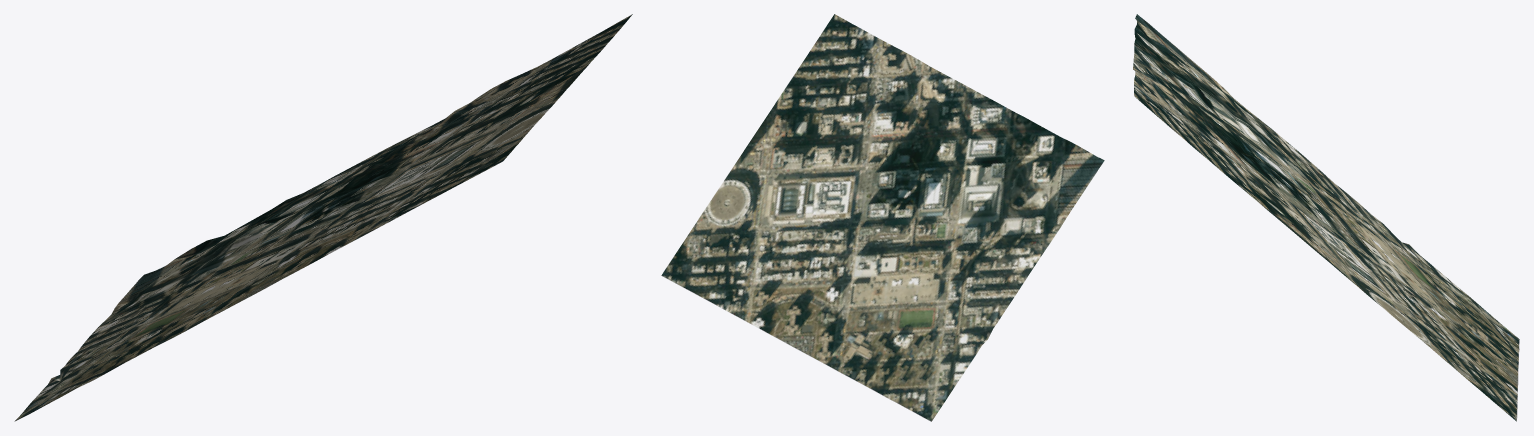
3 views of the same model, side by side, from view 1: azimuth 30°, elevation 25°; view 2: azimuth 150°, elevation 25°; view 3: azimuth 270°, elevation 25° (orthographic). The views are drawn at different scales.
Size of the model in its own units: 1060 by 830 by 708.
1 material, 1 textured.
